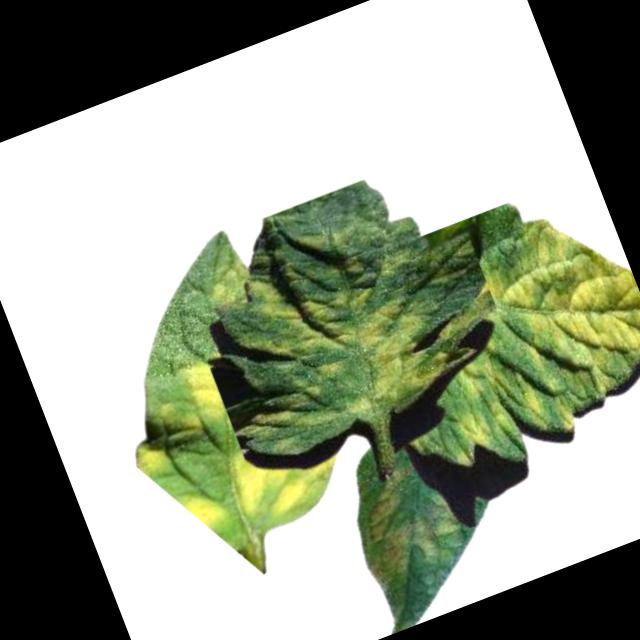Leaf_Mold: (389, 192, 640, 466), (198, 223, 460, 463), (338, 457, 470, 595), (224, 420, 355, 536), (177, 357, 231, 430), (177, 484, 234, 542), (128, 440, 172, 488)
